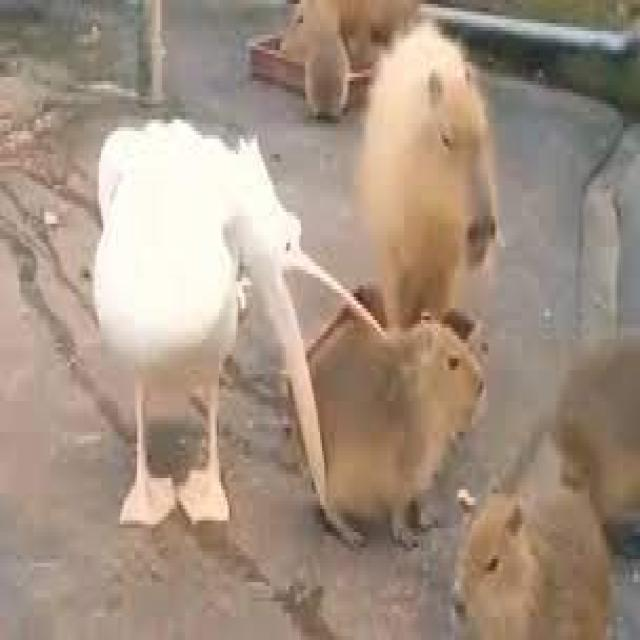capy: (294, 309, 485, 547), (356, 24, 496, 334), (452, 483, 612, 640), (277, 0, 418, 51)
